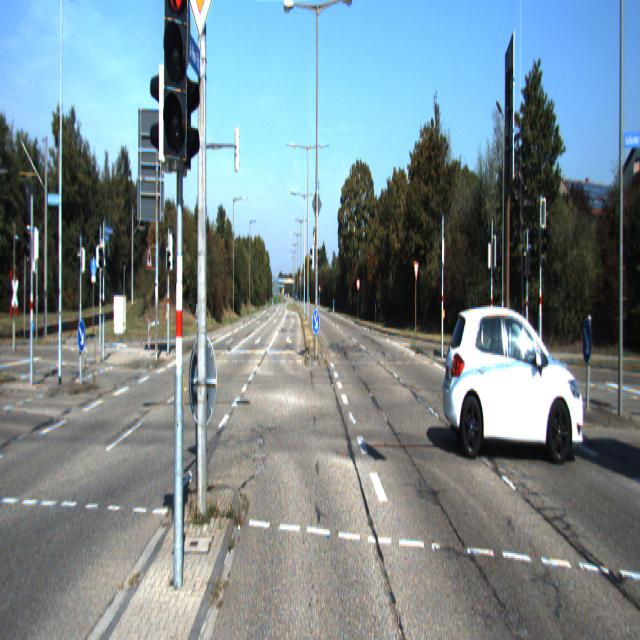Car: (440, 298, 587, 465)
